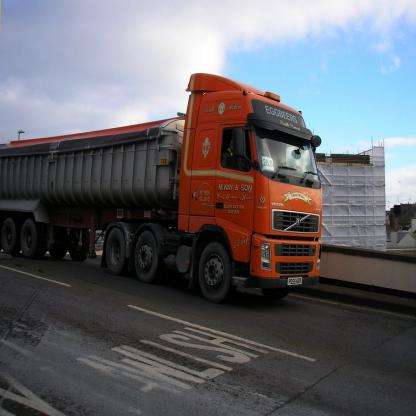Truck: (10, 78, 332, 307)
